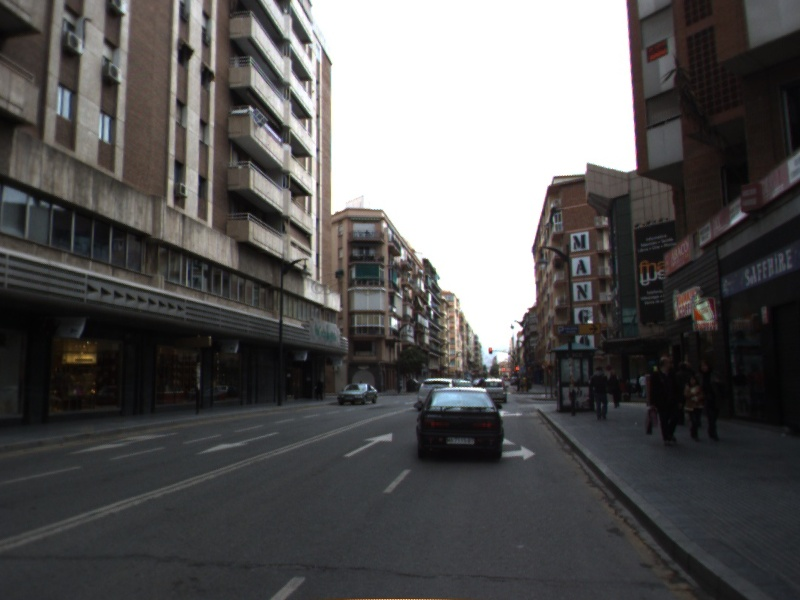STRAIGHT: (342, 431, 394, 459)
STRAIGHT_RIGHT: (497, 408, 524, 419)
